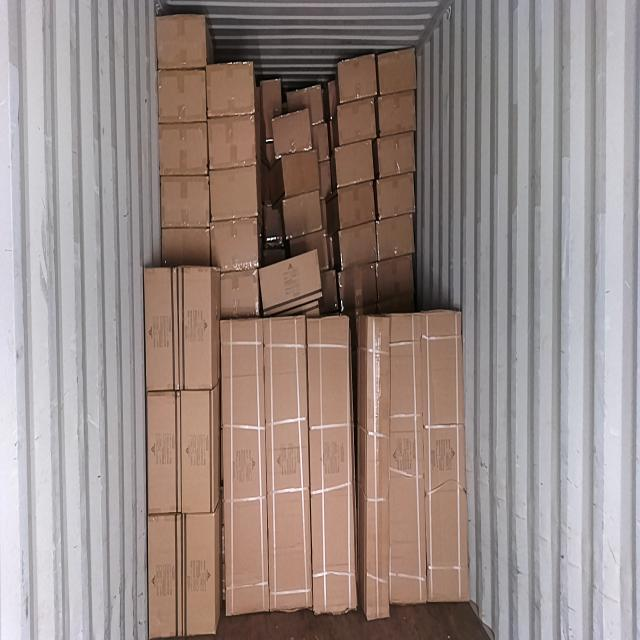carton: (222, 316, 271, 616), (309, 315, 357, 614), (264, 314, 310, 611), (426, 314, 468, 596), (392, 314, 428, 606), (363, 314, 390, 620), (147, 388, 180, 514), (149, 514, 181, 640), (182, 515, 214, 635), (146, 270, 178, 388), (182, 388, 212, 511), (180, 267, 210, 389), (264, 254, 320, 316), (157, 14, 207, 70), (210, 217, 260, 271), (161, 174, 209, 227), (207, 65, 255, 115), (160, 121, 207, 172), (210, 168, 257, 218), (159, 70, 205, 121), (209, 118, 256, 165), (336, 54, 376, 102), (334, 141, 374, 188), (338, 97, 376, 145), (378, 89, 416, 137), (337, 182, 375, 228), (162, 229, 210, 265), (377, 217, 417, 260), (220, 270, 258, 315), (340, 223, 378, 268), (277, 108, 312, 156), (282, 150, 318, 195), (376, 176, 416, 216), (378, 51, 418, 90), (378, 133, 415, 173), (286, 193, 321, 234)
